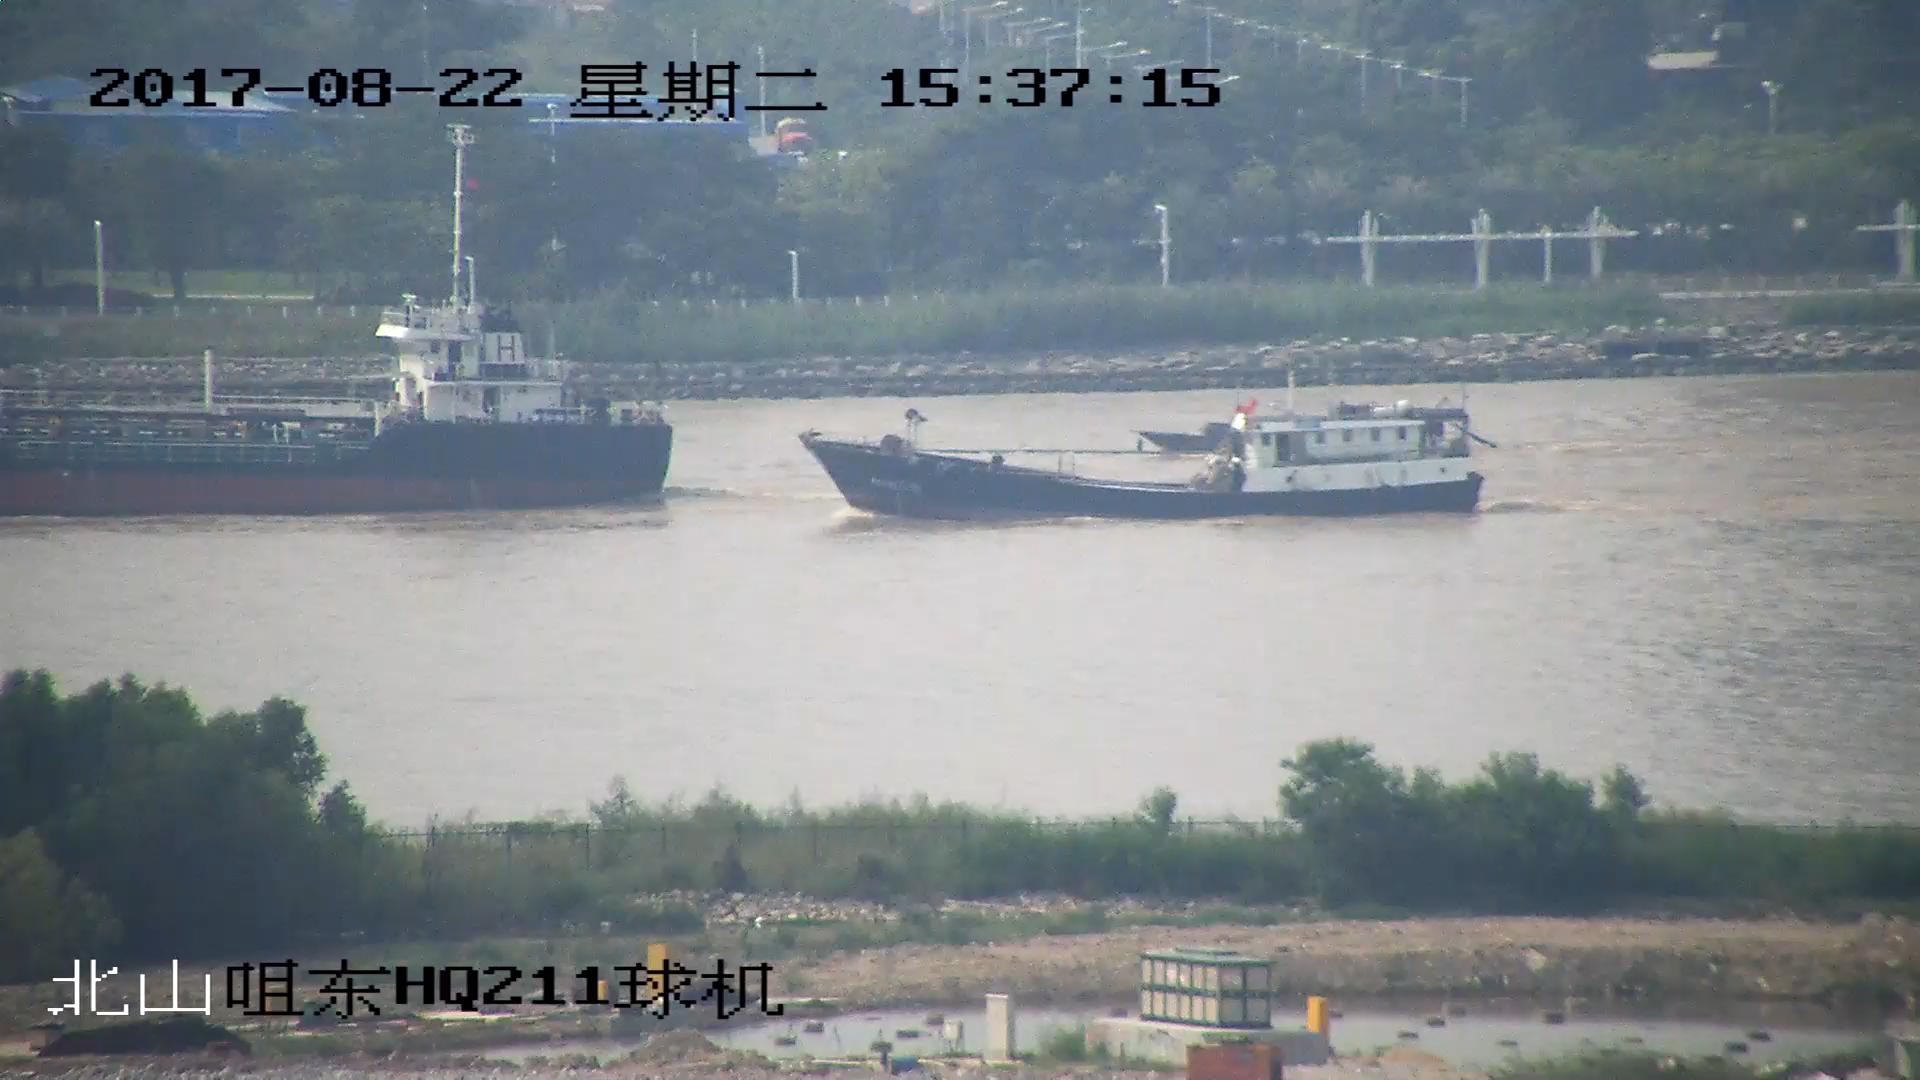fishing boat: (802, 395, 1482, 522), (1142, 420, 1225, 454)
general cargo ship: (1, 123, 680, 510)
